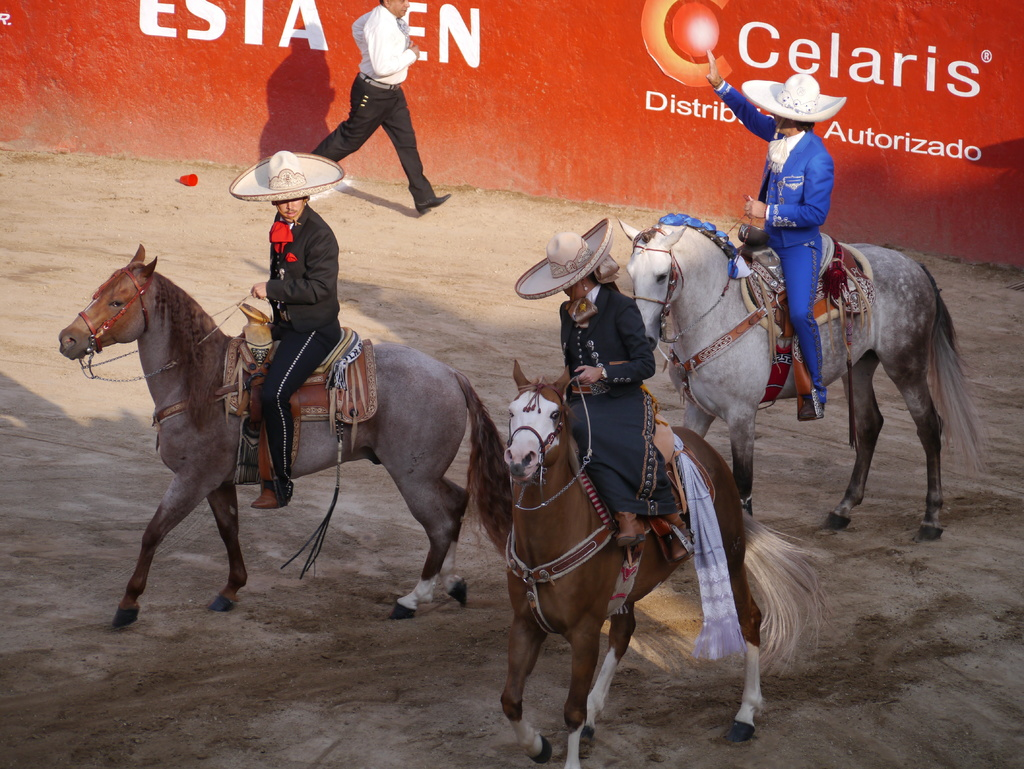horse: (55, 241, 542, 629), (500, 357, 830, 767)
